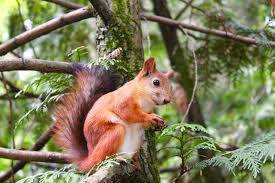Ardilla: (114, 55, 186, 127)
